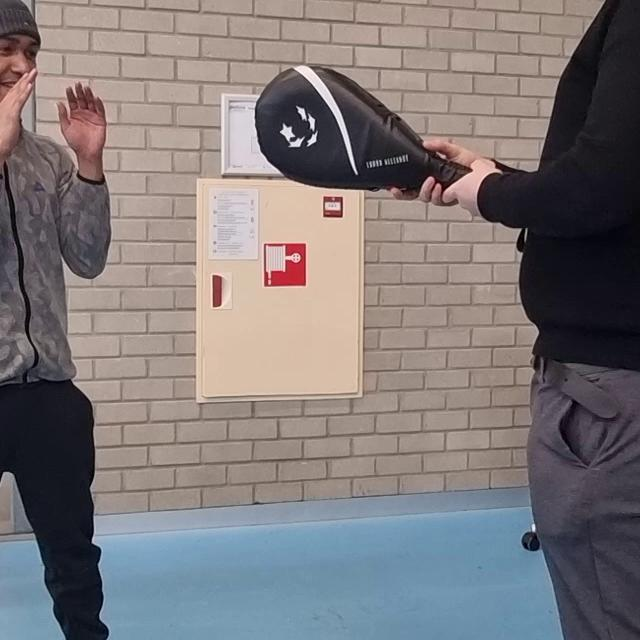paddle: (256, 67, 473, 202)
